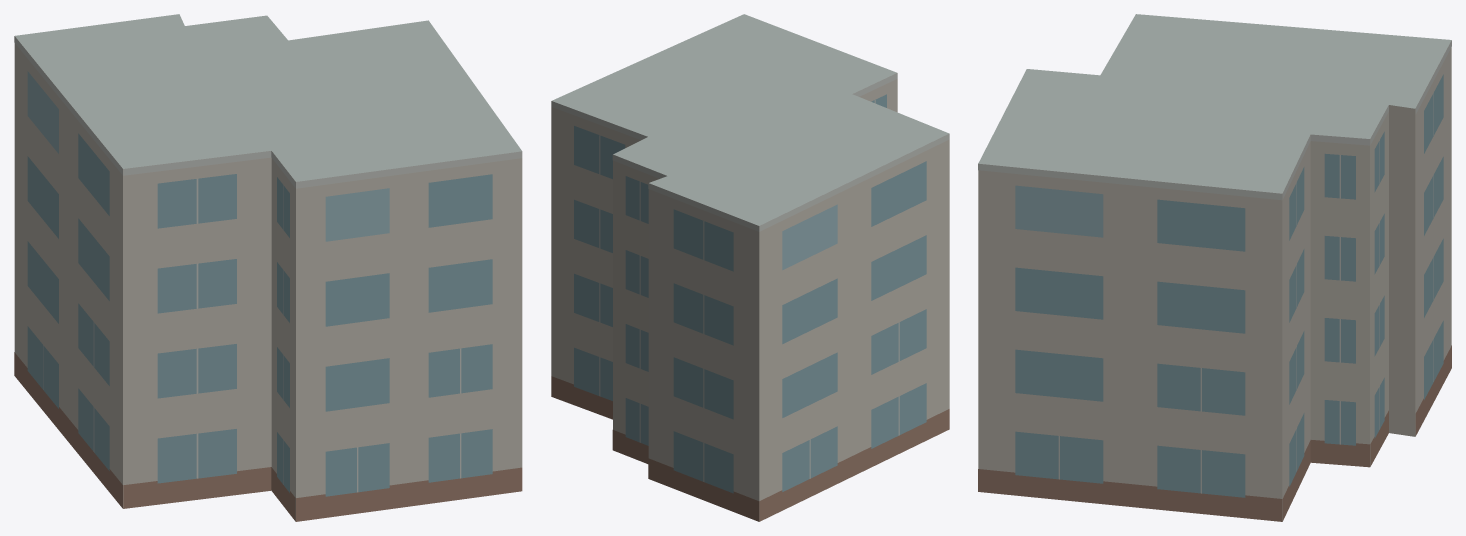
Rendered from survey-upis-32667471.glb.
The picture shows the model from 3 angles, left to right: view 1: azimuth 30°, elevation 25°; view 2: azimuth 150°, elevation 25°; view 3: azimuth 270°, elevation 25°; orthographic projection. The views are drawn at different scales.
Parts seen in each view (by area): view 1: survey-upis-32667471.tmp; view 2: survey-upis-32667471.tmp; view 3: survey-upis-32667471.tmp.
Boxes of the visible parts, <box> form: survey-upis-32667471.tmp: <box>14,14,522,521</box>; survey-upis-32667471.tmp: <box>551,14,949,521</box>; survey-upis-32667471.tmp: <box>978,14,1451,521</box>.
Size of the model in its own units: 14.34 by 12.2 by 15.97.
